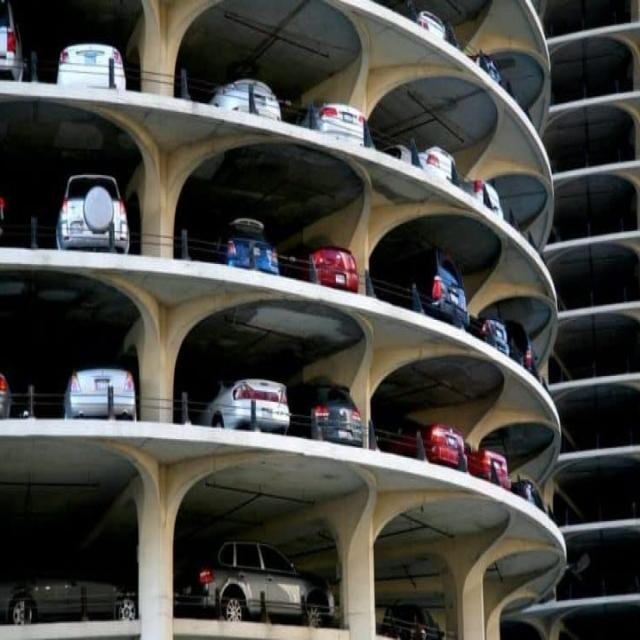car: (0, 538, 146, 640), (199, 538, 335, 626), (199, 357, 292, 433), (384, 396, 466, 476), (293, 366, 364, 454), (56, 174, 130, 254), (213, 213, 286, 291), (212, 62, 284, 131), (416, 249, 471, 337), (307, 80, 368, 157), (468, 416, 514, 504), (63, 366, 136, 421), (399, 134, 461, 192), (56, 42, 126, 92), (303, 225, 364, 281), (380, 589, 440, 640), (0, 0, 27, 90), (469, 153, 503, 214), (478, 298, 509, 354), (512, 306, 538, 371), (420, 10, 448, 47)
